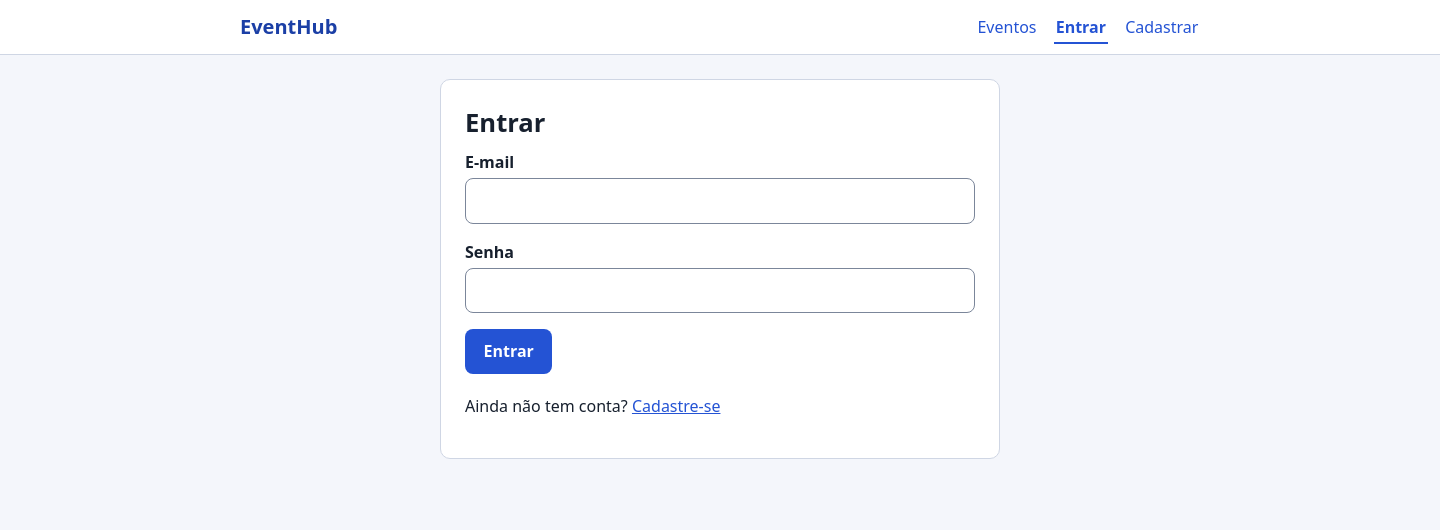
Test case: Meus certificados › 404 (certificado de outra pessoa ou inexistente) mostra mensagem e não baixa nada
Type "maria@example.com" into the field labelled "E-mail".
click(720, 201); type("maria@example.com")  # box [465, 178, 975, 224]
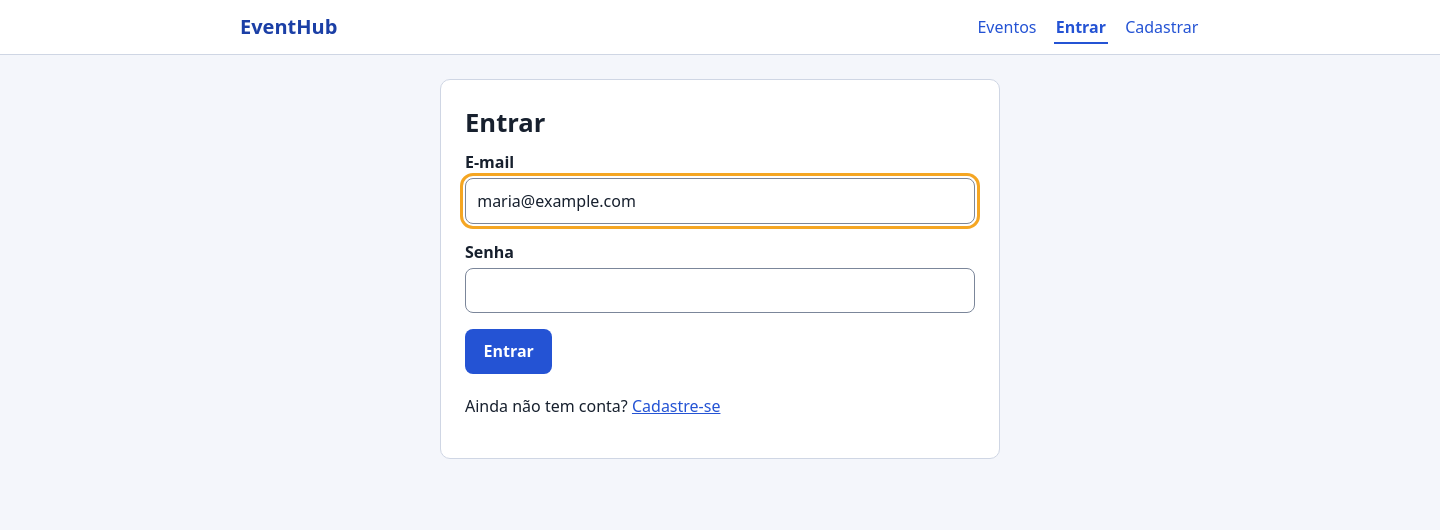
Type "senha-forte-123" into the password field labelled "Senha".
click(720, 290); type("senha-forte-123")  # box [465, 268, 975, 313]
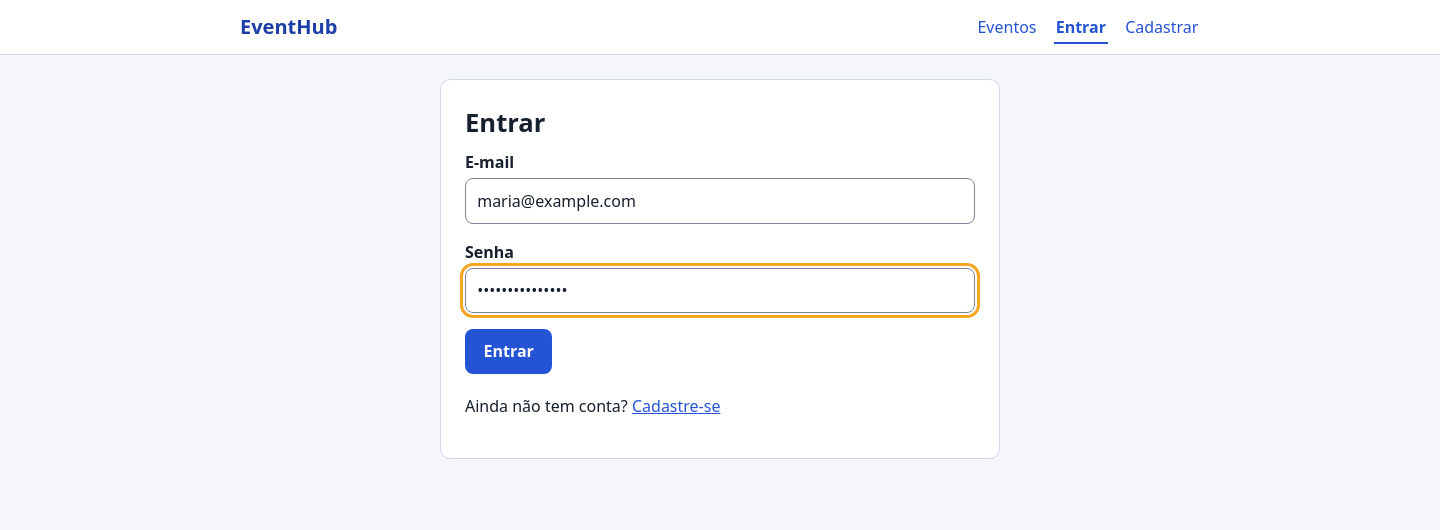
Click the button "Entrar".
click(509, 351)  # box [465, 329, 552, 374]
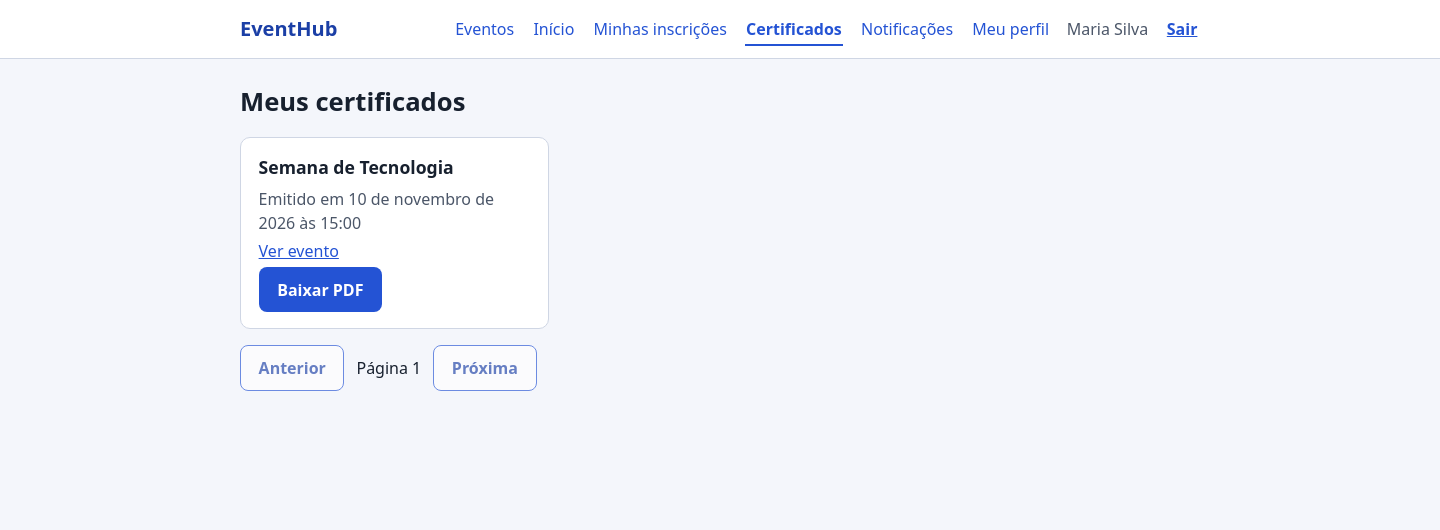
Click the button "Baixar PDF".
click(320, 290)  # box [259, 267, 382, 312]
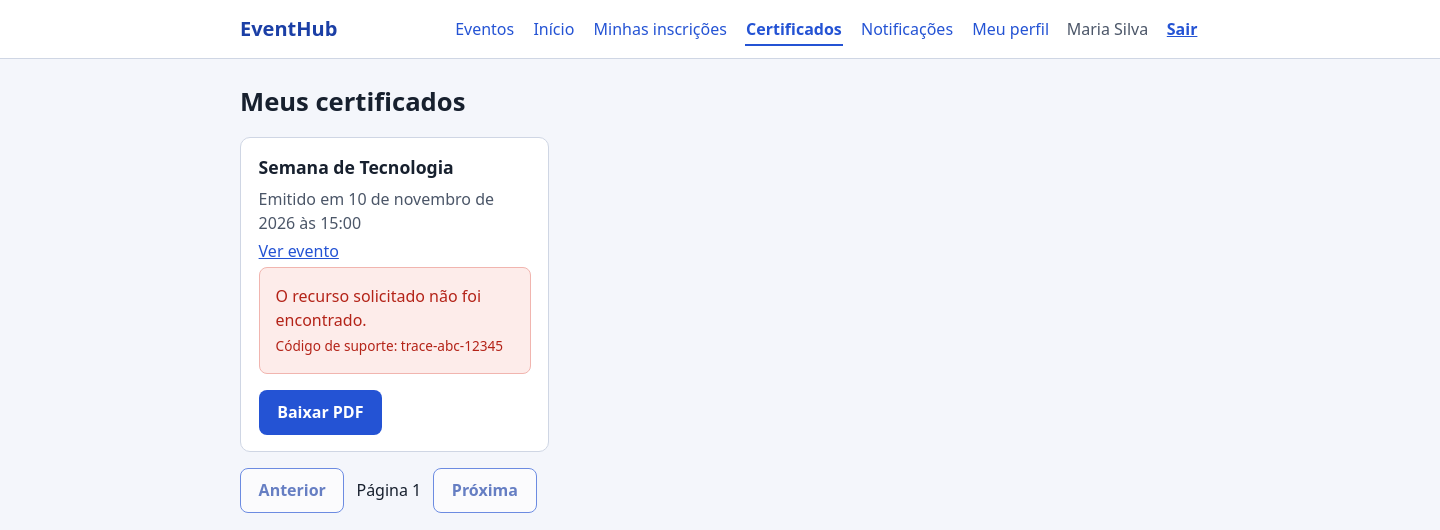
Result: the button "Baixar PDF" is enabled at [259, 390, 382, 435]
Result: the message shows "O recurso solicitado não foi encontrado." at [276, 285, 481, 331]
